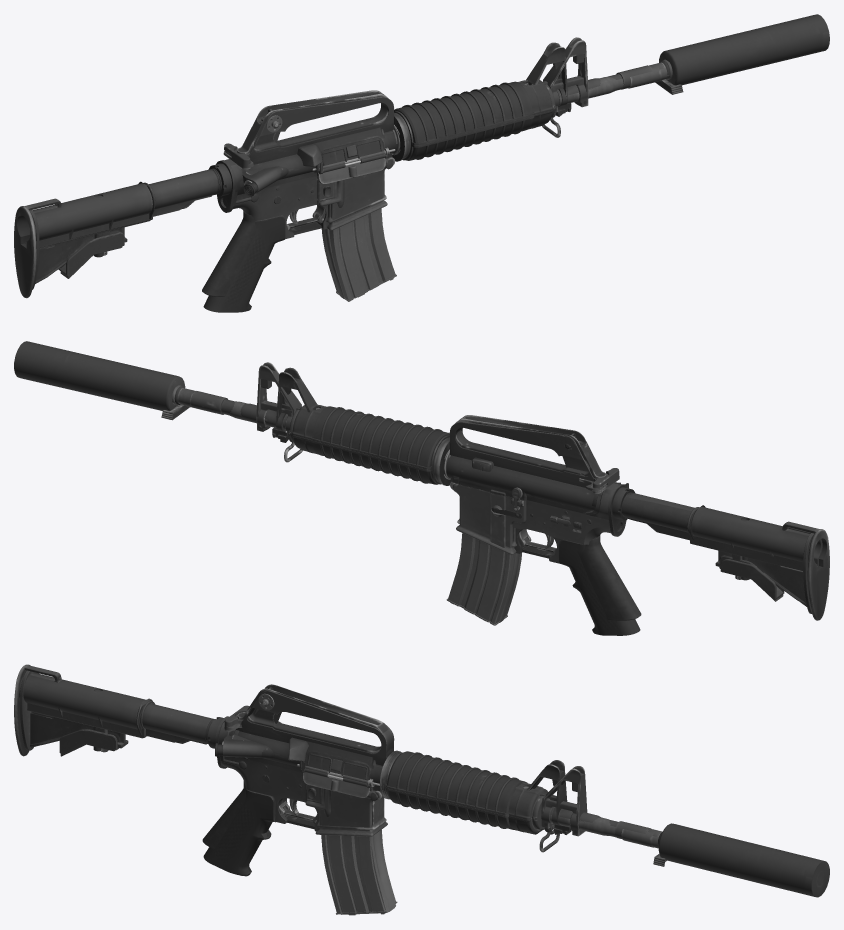
3 views of the same model, one above another, from view 1: azimuth 30°, elevation 25°; view 2: azimuth 150°, elevation 25°; view 3: azimuth 330°, elevation 25° (orthographic).
Parts seen in each view (by area): view 1: weapons/models/m4a1_silencer/weapon_rif_m4a1_silencer.vmdl_c, weapons/models/m4a1_silencer/weapon_rif_m4a1_silencer.vmdl_; view 2: weapons/models/m4a1_silencer/weapon_rif_m4a1_silencer.vmdl_c, weapons/models/m4a1_silencer/weapon_rif_m4a1_silencer.vmdl_; view 3: weapons/models/m4a1_silencer/weapon_rif_m4a1_silencer.vmdl_c, weapons/models/m4a1_silencer/weapon_rif_m4a1_silencer.vmdl_.
Part boxes in pixels (x1,y1,x2,y2): weapons/models/m4a1_silencer/weapon_rif_m4a1_silencer.vmdl_c: (14,14,829,312); weapons/models/m4a1_silencer/weapon_rif_m4a1_silencer.vmdl_: (25,37,669,298); weapons/models/m4a1_silencer/weapon_rif_m4a1_silencer.vmdl_c: (14,341,829,635); weapons/models/m4a1_silencer/weapon_rif_m4a1_silencer.vmdl_: (184,362,822,622); weapons/models/m4a1_silencer/weapon_rif_m4a1_silencer.vmdl_c: (14,664,829,914); weapons/models/m4a1_silencer/weapon_rif_m4a1_silencer.vmdl_: (19,670,658,915).
Bounding box in the file's own units: 47.46 × 11.79 × 3.59.
Materials: 2 (2 with a texture image).
